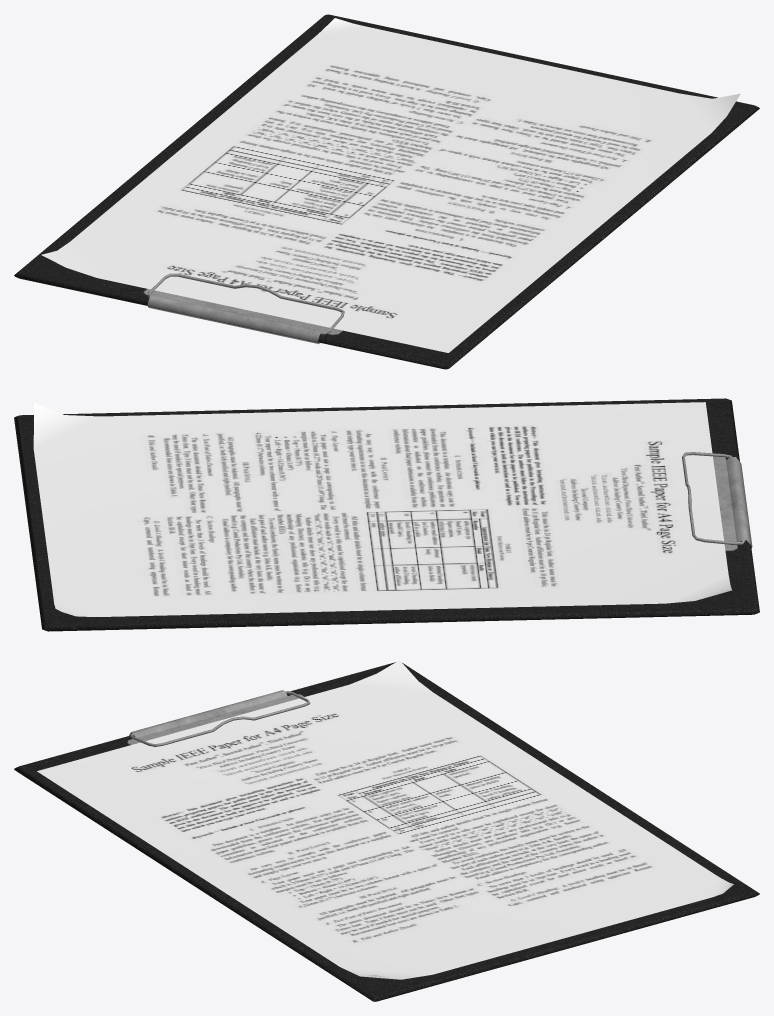
File: Resume.glb
3 renders of one model, top to bottom at view 1: azimuth 30°, elevation 25°; view 2: azimuth 150°, elevation 25°; view 3: azimuth 270°, elevation 25°, orthographic. The views are drawn at different scales.
Parts seen in each view (by area): view 1: Plane_Material_0.001; view 2: Plane_Material_0.001; view 3: Plane_Material_0.001.
Boxes of the visible parts, <box> form: Plane_Material_0.001: <box>14,14,759,369</box>; Plane_Material_0.001: <box>14,398,759,631</box>; Plane_Material_0.001: <box>14,660,759,1001</box>.
Size of the model in its own units: 0.2787 by 0.0081 by 0.2592.
2 materials, 2 textured.
